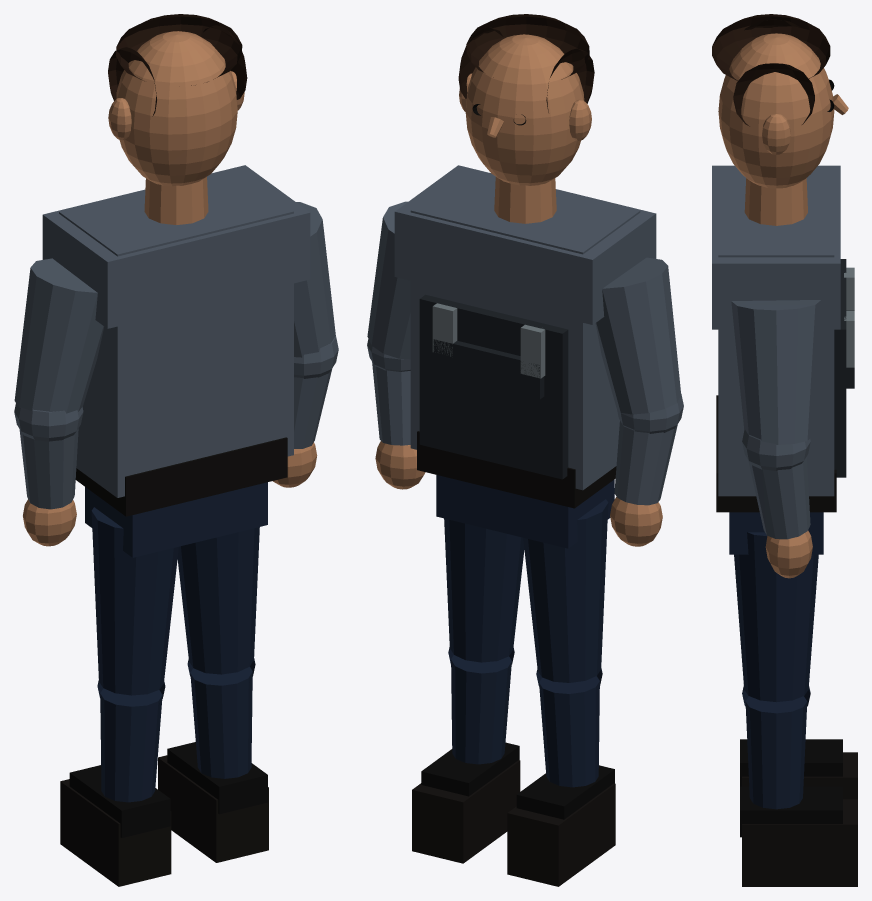
Rendered from civilian_character.obj.
The picture shows the model from 3 angles, left to right: view 1: azimuth 30°, elevation 25°; view 2: azimuth 150°, elevation 25°; view 3: azimuth 270°, elevation 25°; orthographic projection. The views are drawn at different scales.
Size of the model in its own units: 0.84 by 2.12 by 0.34.
